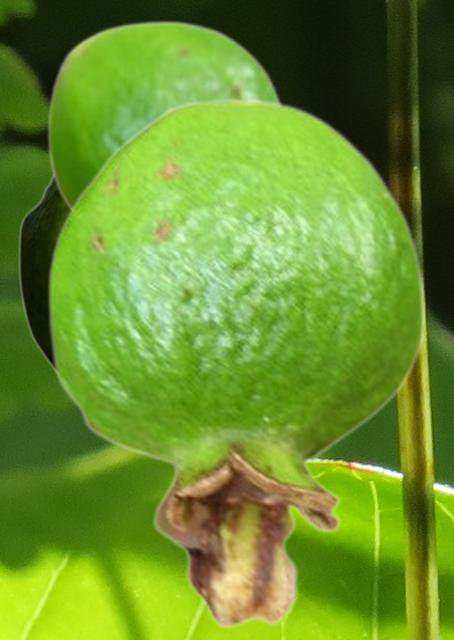guava: (46, 96, 425, 629), (46, 19, 283, 208), (18, 176, 67, 369)
